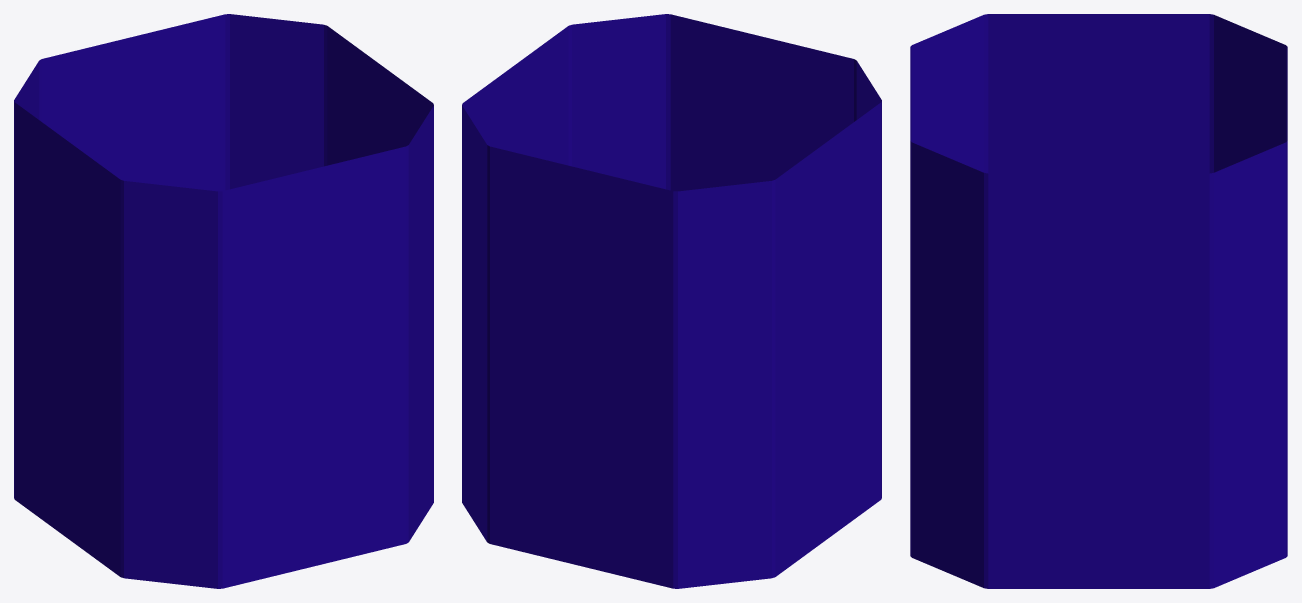
Rendered from Arena Centro soft.fbx.
The picture shows the model from 3 angles, left to right: view 1: azimuth 30°, elevation 25°; view 2: azimuth 150°, elevation 25°; view 3: azimuth 270°, elevation 25°; orthographic projection. The views are drawn at different scales.
Visible parts, largest first — view 1: arena_centro; view 2: arena_centro; view 3: arena_centro.
Part boxes in pixels (box(x1,y1,x2,y2)): arena_centro: box(14, 14, 433, 588); arena_centro: box(462, 14, 881, 588); arena_centro: box(910, 14, 1287, 588).
Size of the model in its own units: 70 by 85 by 70.
